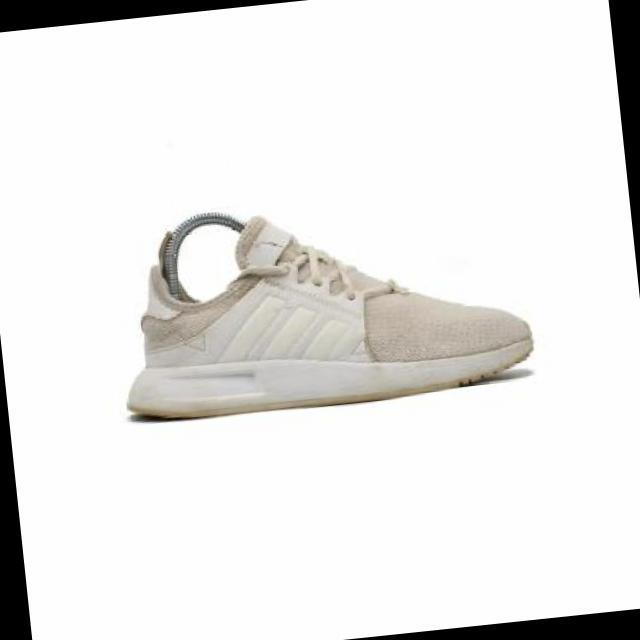Adidas: (207, 275, 374, 391)
